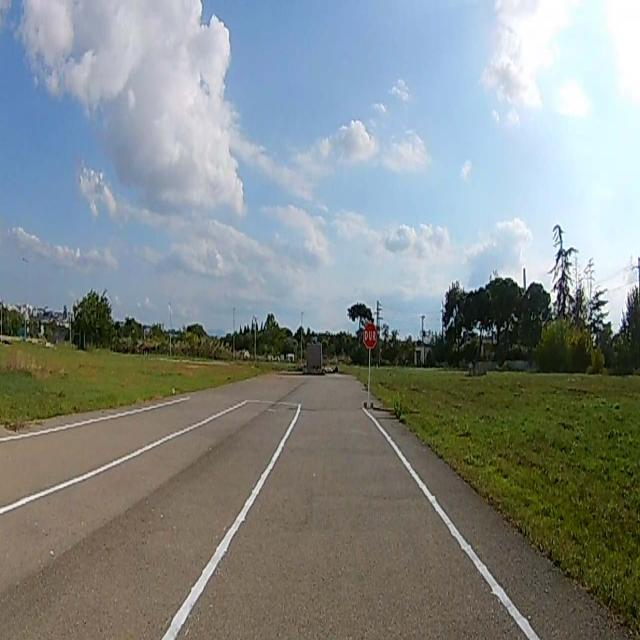dur: (364, 322, 376, 347)
